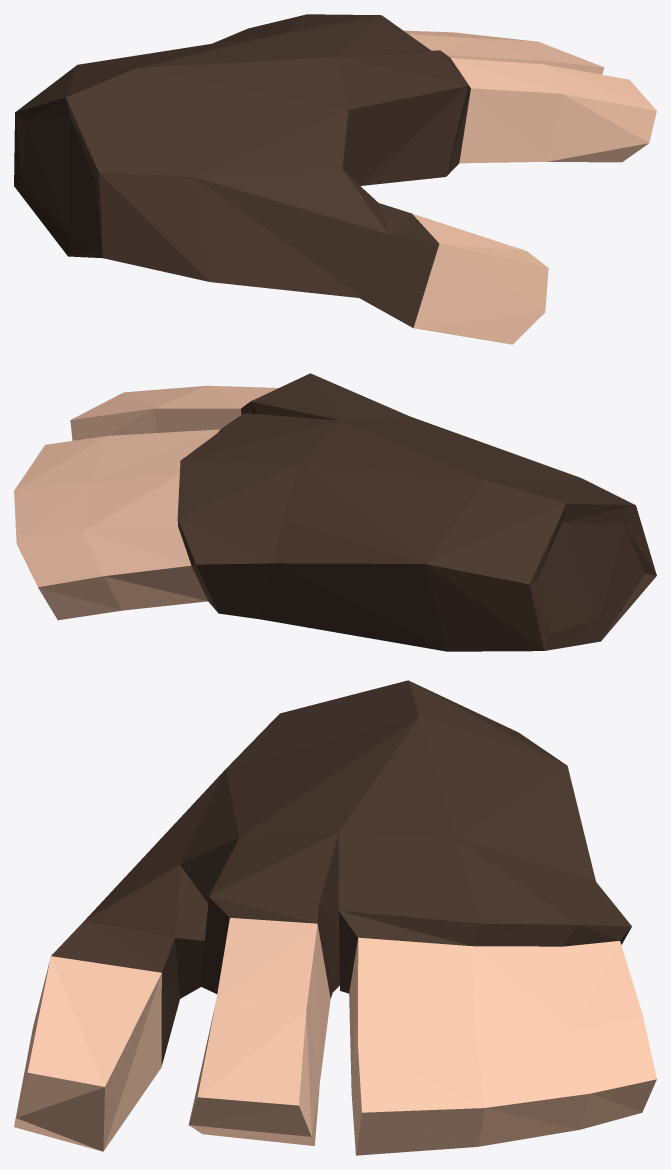
The model's file is Chr_HandLeft_Male_17_Static.fbx.
3 views of the same model, one above another, from view 1: azimuth 30°, elevation 25°; view 2: azimuth 150°, elevation 25°; view 3: azimuth 270°, elevation 25° (orthographic). The views are drawn at different scales.
Parts seen in each view (by area): view 1: Chr_HandLeft_Male_17_Static; view 2: Chr_HandLeft_Male_17_Static; view 3: Chr_HandLeft_Male_17_Static.
Part boxes in pixels (x1,y1,x2,y2): Chr_HandLeft_Male_17_Static: (14, 14, 656, 344); Chr_HandLeft_Male_17_Static: (14, 373, 656, 651); Chr_HandLeft_Male_17_Static: (14, 680, 656, 1155).
Size of the model in its own units: 0.2361 by 0.0952 by 0.188.
